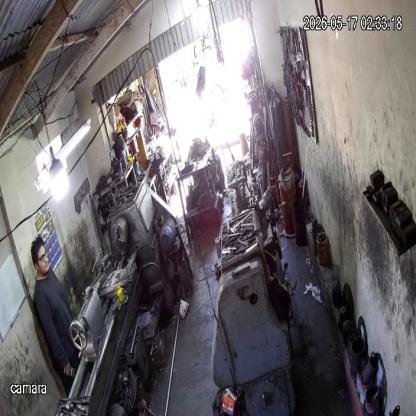lentes: (36, 251, 48, 262)
